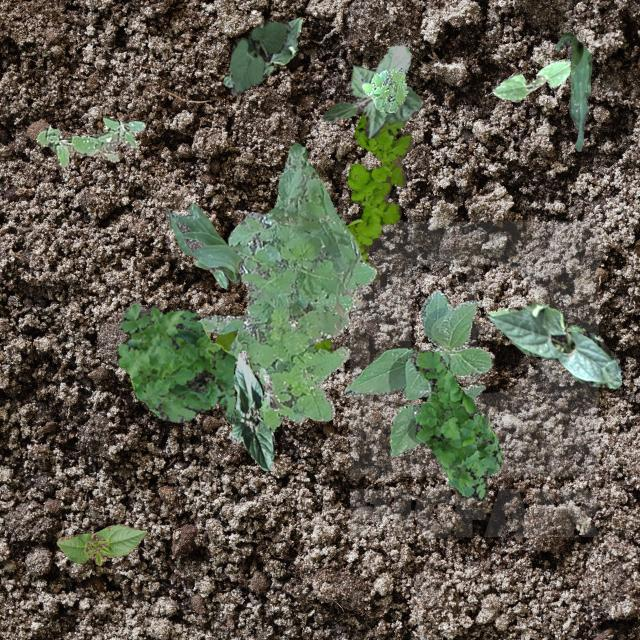crop: (344, 288, 492, 456), (486, 302, 620, 388), (322, 45, 422, 136), (164, 202, 242, 282), (224, 350, 274, 470), (222, 15, 302, 86), (228, 20, 290, 94), (554, 32, 592, 150), (56, 522, 146, 564), (492, 58, 570, 100)
weed: (200, 142, 376, 430), (312, 112, 412, 352), (117, 300, 236, 422), (409, 348, 502, 499), (34, 116, 144, 166), (362, 68, 406, 112), (256, 366, 282, 411), (195, 258, 228, 288), (214, 328, 236, 351)
